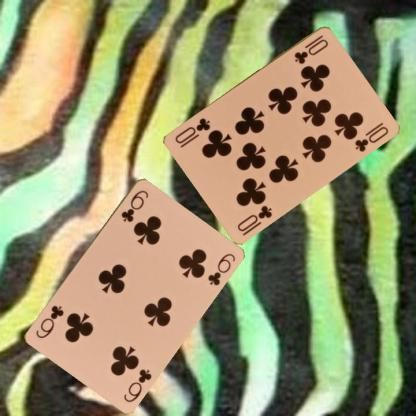10c: (291, 32, 330, 66), (234, 202, 274, 233)
6c: (121, 366, 154, 404), (119, 186, 150, 224)
